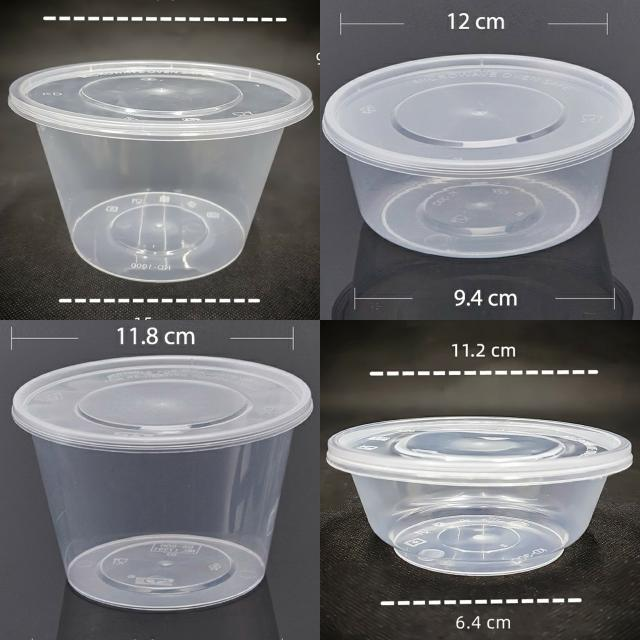Single-Use-Plastic: (11, 355, 312, 610), (9, 60, 311, 282), (322, 55, 634, 258), (326, 416, 632, 576)
